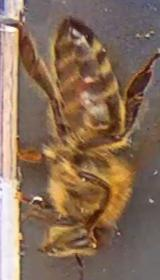varroa_mite: (60, 69, 104, 100)
